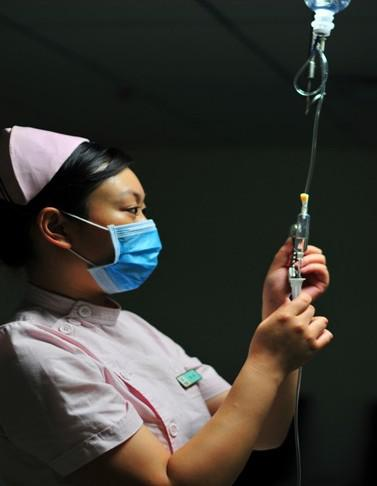OK: (53, 188, 159, 295)
